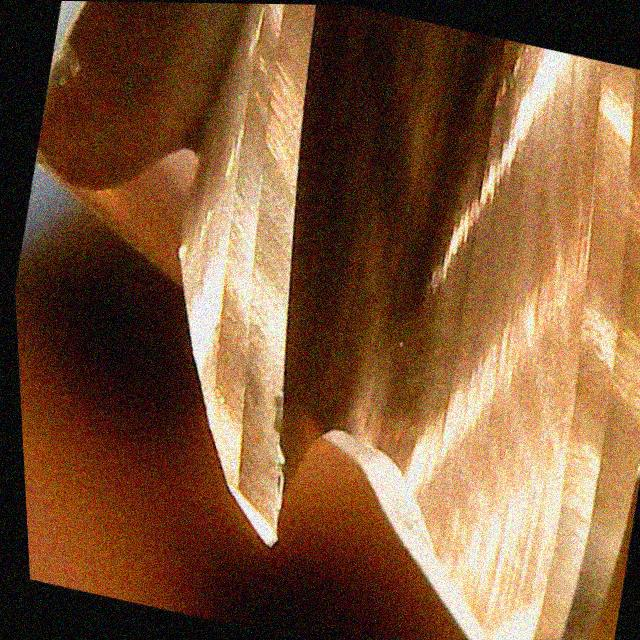Tool-wear-class-1: (123, 181, 378, 565)
